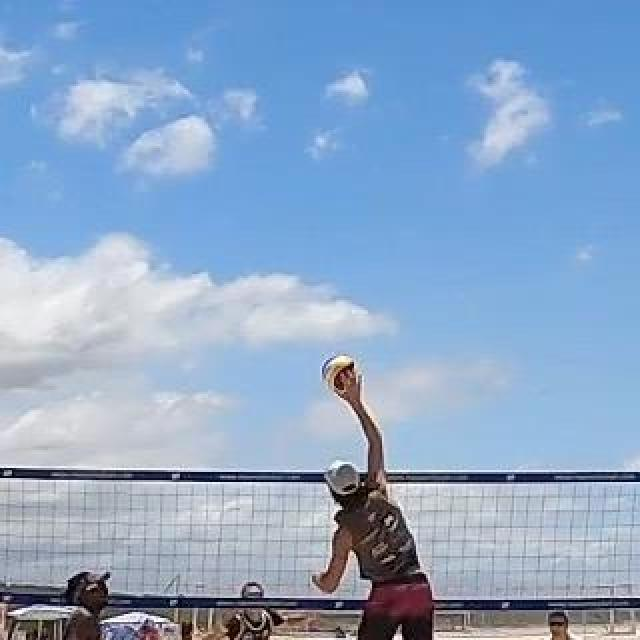volleyball: (324, 354, 358, 388)
